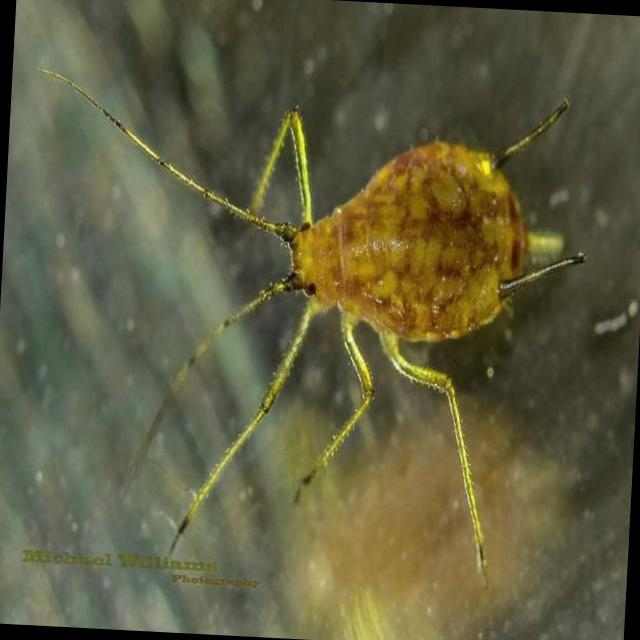aphid: (170, 104, 594, 580)
